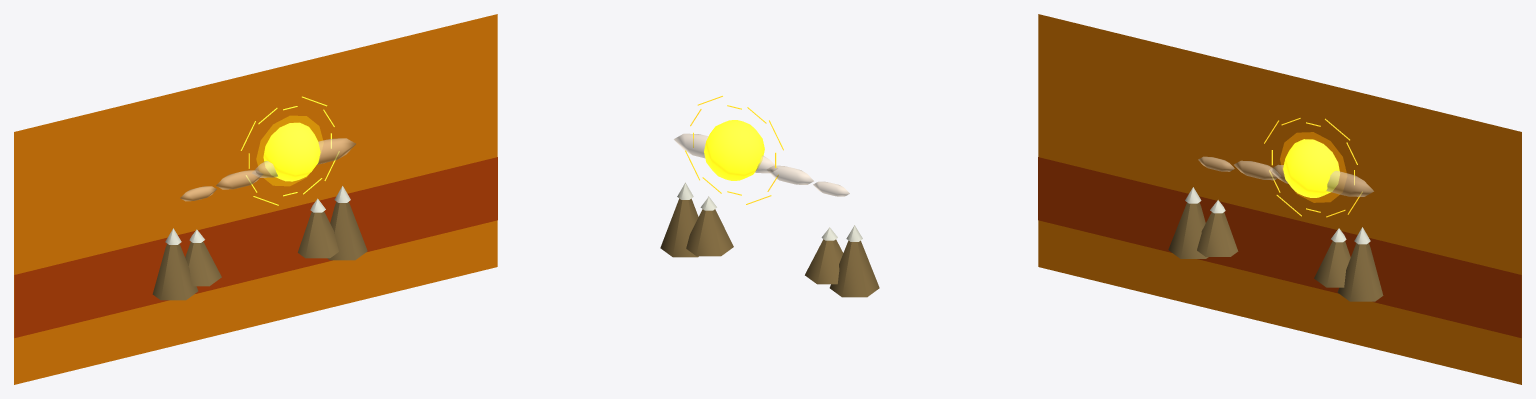
The model's file is solarPinnacle.glb.
3 views of the same model, side by side, from view 1: azimuth 30°, elevation 25°; view 2: azimuth 150°, elevation 25°; view 3: azimuth 330°, elevation 25° (orthographic).
Visible parts, largest first — view 1: background, object 2, object 3, object 17, object 23, object 21, object 19, object 4, object 28, object 26; view 2: object 3, object 17, object 21, object 23, object 19, object 26, object 28; view 3: background, object 2, object 3, object 23, object 17, object 19, object 21, object 4, object 28, object 26.
Part boxes in pixels (x1,y1,x2,y2): background: (14, 14, 497, 384); object 2: (14, 157, 497, 337); object 3: (263, 122, 320, 181); object 17: (152, 243, 198, 300); object 23: (327, 201, 367, 260); object 21: (298, 211, 338, 258); object 19: (185, 241, 221, 286); object 4: (256, 116, 322, 185); object 28: (317, 138, 355, 164); object 26: (216, 170, 262, 189); object 3: (704, 120, 764, 180); object 17: (829, 240, 879, 297); object 21: (686, 196, 733, 256); object 23: (660, 198, 698, 257); object 19: (805, 239, 843, 284); object 26: (767, 165, 813, 184); object 28: (674, 133, 708, 158); background: (1038, 14, 1521, 384); object 2: (1038, 157, 1521, 337); object 3: (1283, 139, 1339, 197); object 23: (1337, 243, 1383, 301); object 17: (1168, 202, 1208, 258); object 19: (1197, 212, 1238, 256); object 21: (1314, 241, 1350, 287); object 4: (1280, 132, 1346, 202); object 28: (1326, 171, 1373, 196); object 26: (1234, 160, 1280, 180).
Size of the model in its own units: 4000 by 2000 by 418.
